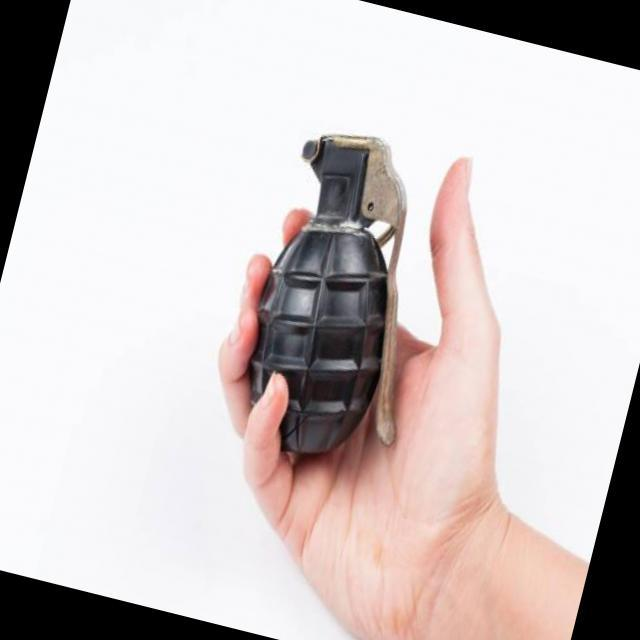grenade: (218, 116, 468, 484)
